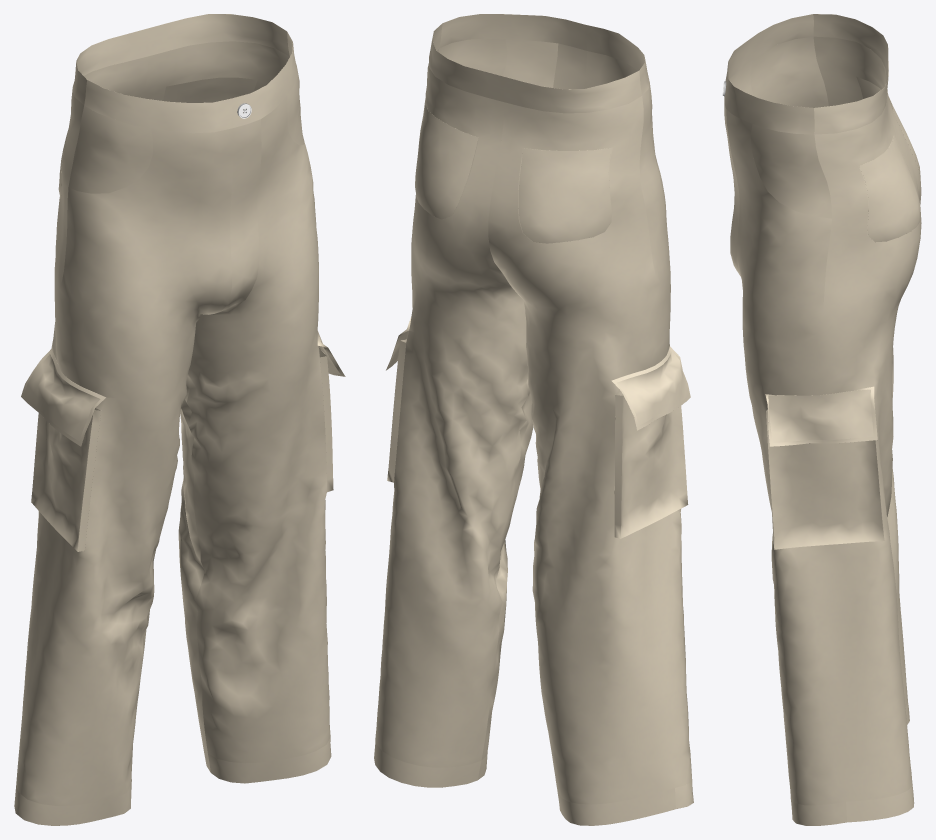
The model's file is FLG_21_02_4.fbx.
3 renders of one model, left to right at view 1: azimuth 30°, elevation 25°; view 2: azimuth 150°, elevation 25°; view 3: azimuth 270°, elevation 25°, orthographic. The views are drawn at different scales.
Visible parts, largest first — view 1: FLG_21_02_4; view 2: FLG_21_02_4; view 3: FLG_21_02_4.
Boxes of the visible parts, x1,y1,x2,y2 form: FLG_21_02_4: (14, 14, 345, 825); FLG_21_02_4: (374, 14, 693, 825); FLG_21_02_4: (722, 14, 921, 825).
Size of the model in its own units: 45.62 by 106 by 26.95.
